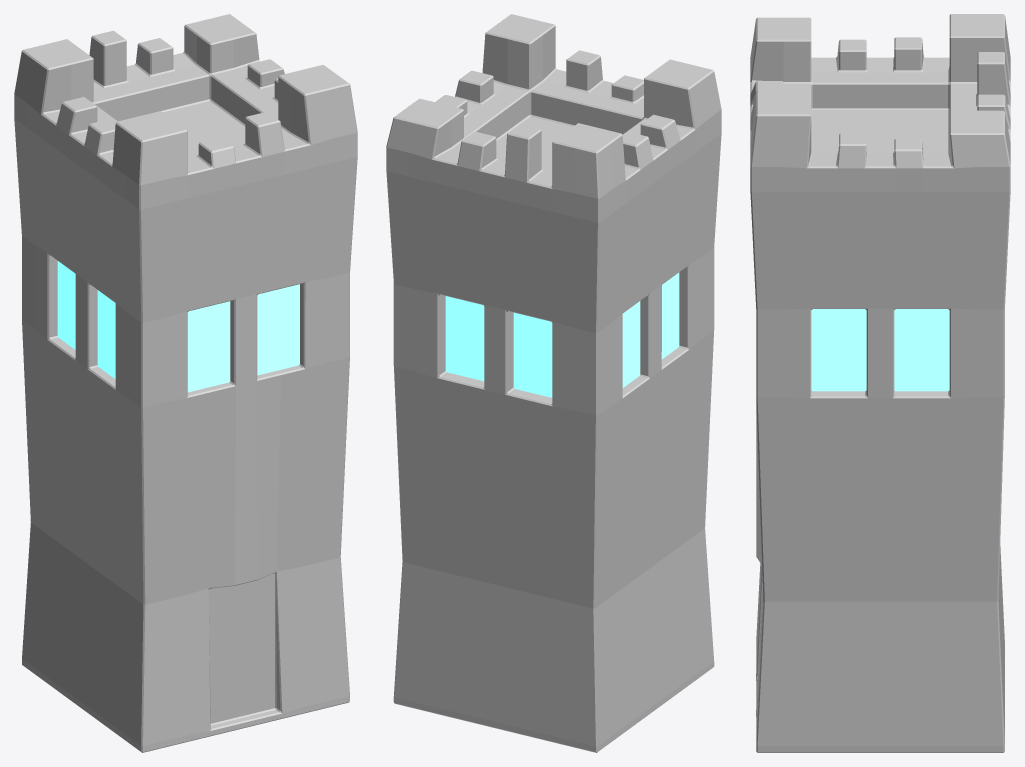
File: Castle1.fbx
3 renders of one model, left to right at view 1: azimuth 30°, elevation 25°; view 2: azimuth 150°, elevation 25°; view 3: azimuth 270°, elevation 25°, orthographic. The views are drawn at different scales.
Parts seen in each view (by area): view 1: Cube, Cube.001; view 2: Cube, Cube.001; view 3: Cube, Cube.001.
Part boxes in pixels (box(x1,y1,x2,y2)): Cube: box(14, 14, 357, 752); Cube.001: box(57, 261, 299, 392); Cube: box(386, 14, 721, 752); Cube.001: box(445, 272, 679, 397); Cube: box(750, 14, 1010, 752); Cube.001: box(811, 309, 949, 391).
Size of the model in its own units: 210 by 567 by 210.
